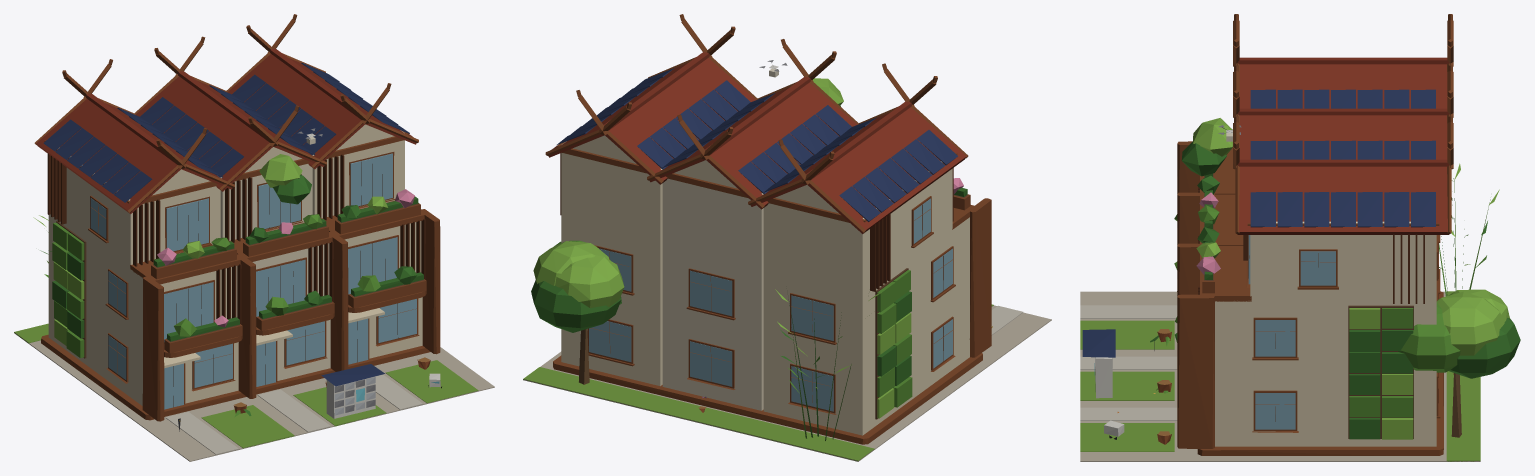
File: home_3.glb
3 views of the same model, side by side, from view 1: azimuth 30°, elevation 25°; view 2: azimuth 150°, elevation 25°; view 3: azimuth 270°, elevation 25° (orthographic). The views are drawn at different scales.
Parts seen in each view (by area): view 1: body; view 2: body; view 3: body.
Boxes of the visible parts, box(x1,y1,x2,y2) form: body: box(14, 14, 494, 461); body: box(523, 14, 1051, 461); body: box(1080, 14, 1520, 461).
Size of the model in its own units: 15.9 by 13.5 by 17.49.
